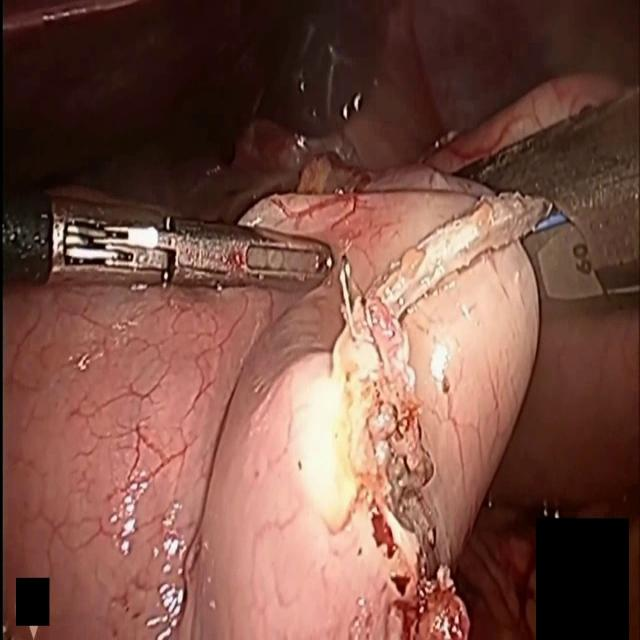surgical-tool: (455, 87, 640, 320), (0, 192, 335, 292)
